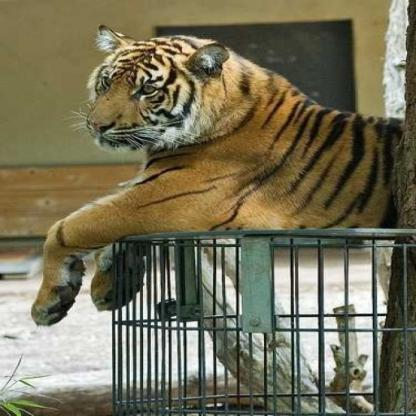Tiger: (28, 19, 416, 333)
